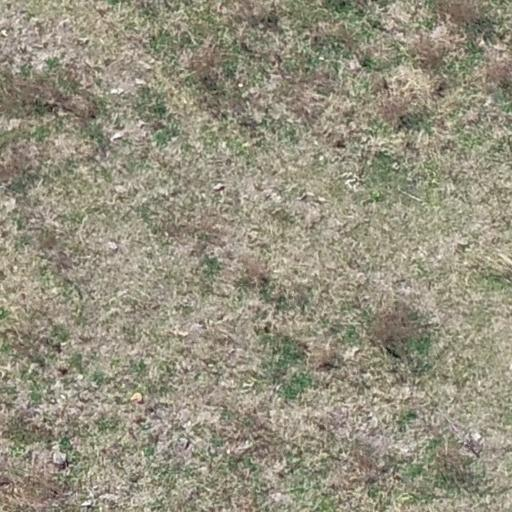stone: (52, 453, 66, 467)
